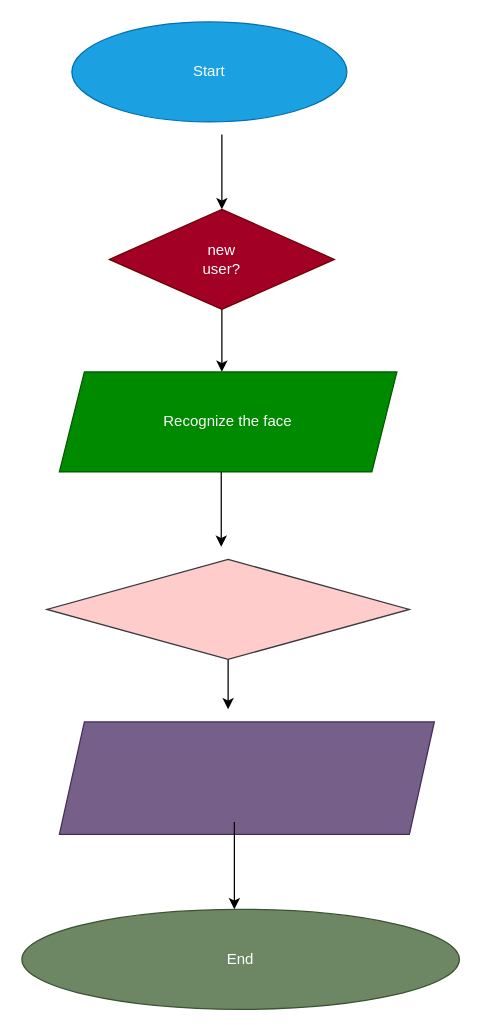
The diagram is 481 pixels wide and 1031 high, and some of its shapes have lost their labels. Each missing label, with the centre of its shape:
"FACE RECOGNIZED" belongs at (x=227, y=608).
"Stored in the CSV file with registration number and date and time and entry" belongs at (x=246, y=777).
